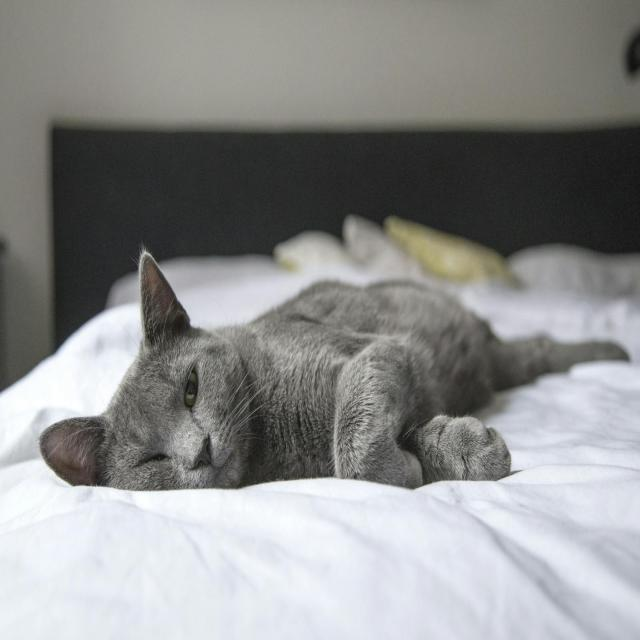Cat: (38, 243, 630, 491)
